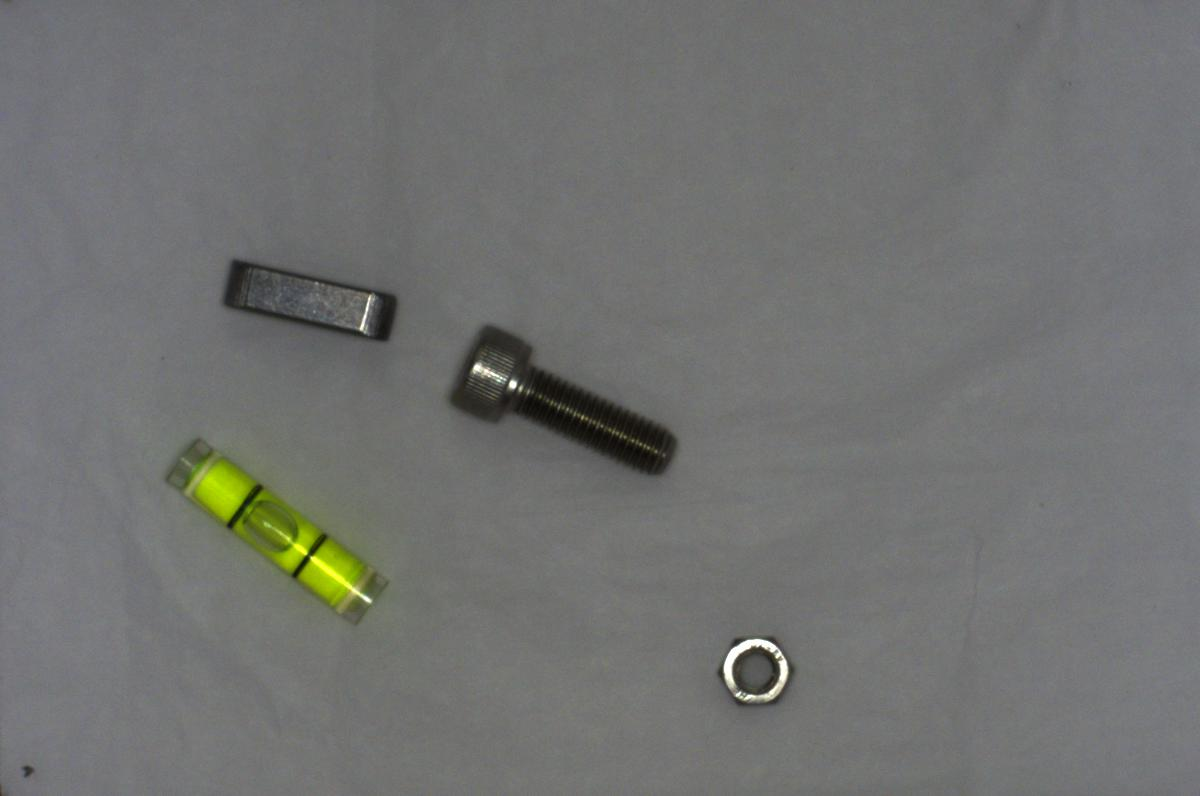Hexagon nut: (708, 623, 797, 716)
Hexagon screw: (439, 316, 685, 475)
Horizontal bubble: (160, 441, 395, 629)
Keybar: (204, 254, 402, 348)
